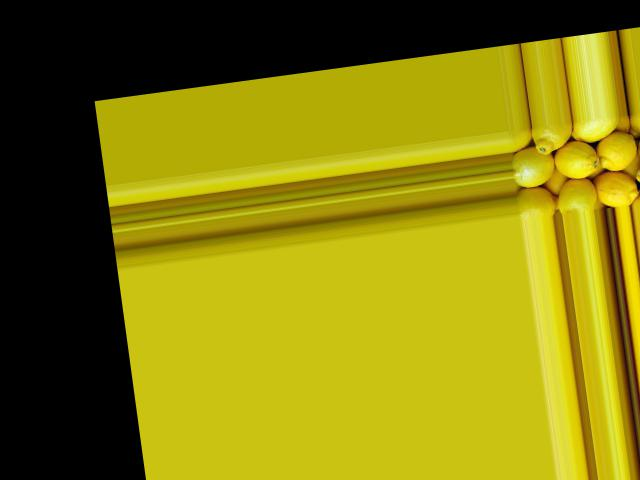lemon: (506, 130, 532, 154)
